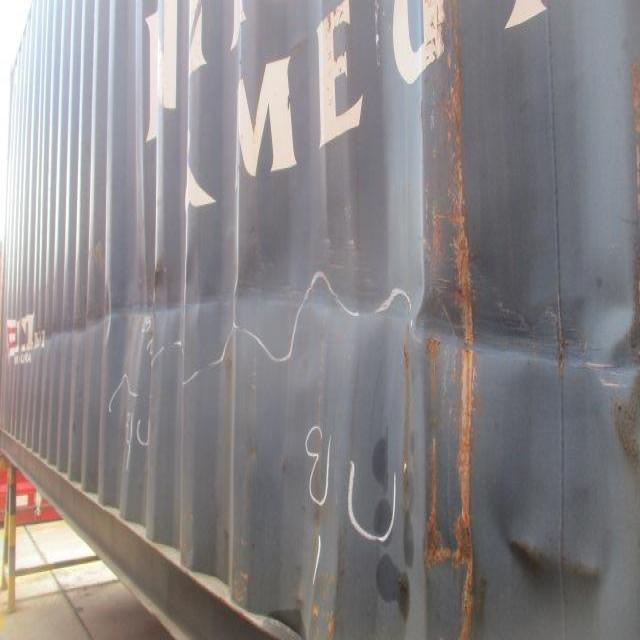dent: (101, 186, 431, 420), (408, 279, 571, 395), (495, 520, 617, 598), (42, 281, 115, 364)
